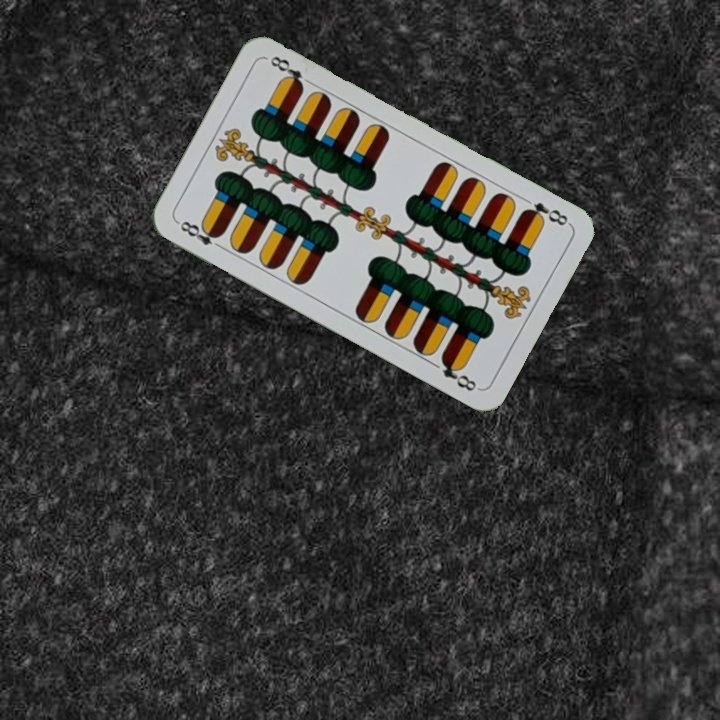E8: (173, 216, 227, 253), (518, 197, 572, 229)
